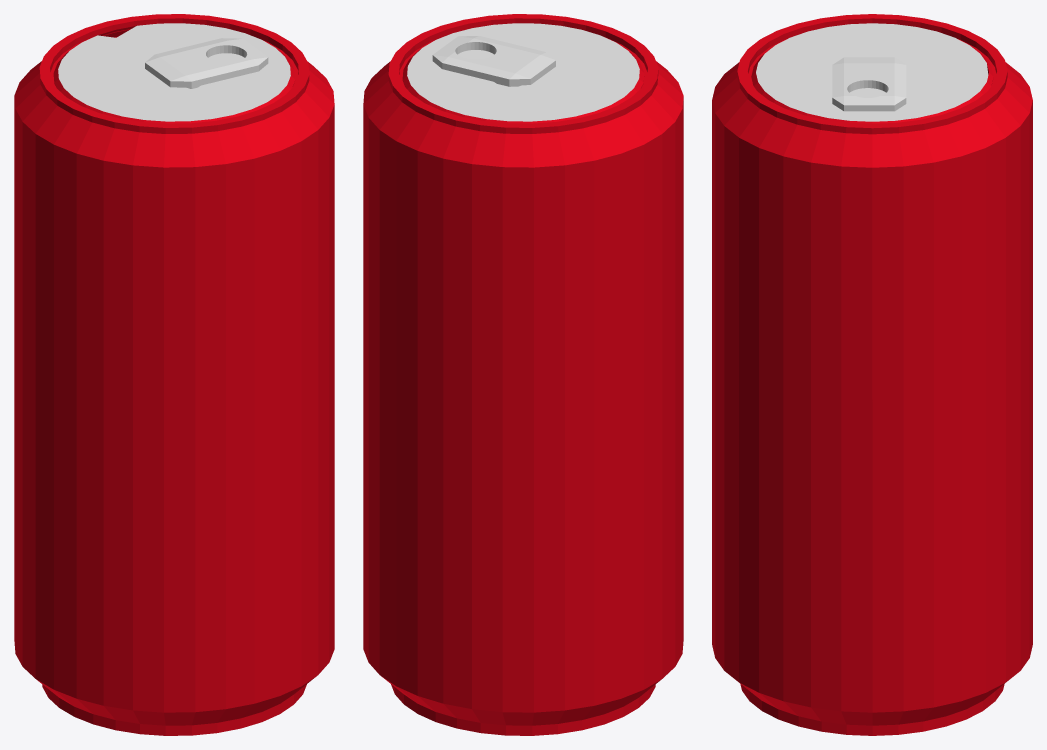
File: KOLA.fbx
3 renders of one model, left to right at view 1: azimuth 30°, elevation 25°; view 2: azimuth 150°, elevation 25°; view 3: azimuth 270°, elevation 25°, orthographic.
Visible parts, largest first — view 1: Cube; view 2: Cube; view 3: Cube.
Part boxes in pixels (x1,y1,x2,y2): Cube: [14, 14, 334, 735]; Cube: [363, 14, 683, 735]; Cube: [712, 14, 1032, 735].
Bounding box in the file's own units: 109 × 231 × 109.
